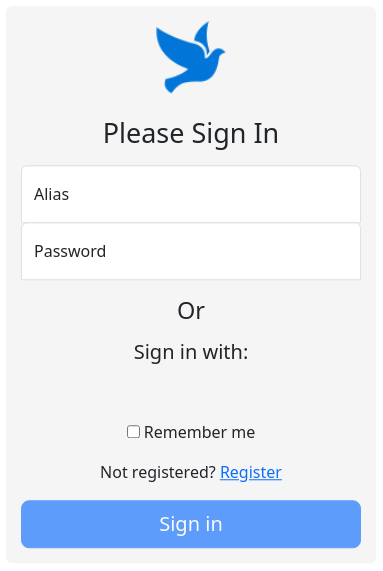
Test: Login Component › The sign-in button is enabled when both the alias and password fields have text.
The image size is (383, 571).
Type "@bob" into the field labelled "Alias" at (191, 195), box [21,166,361,224]
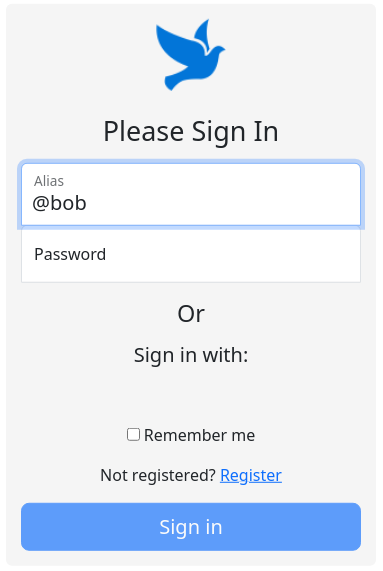
Type "pw" into the password field labelled "Password" at (191, 254), box [21,225,361,283]
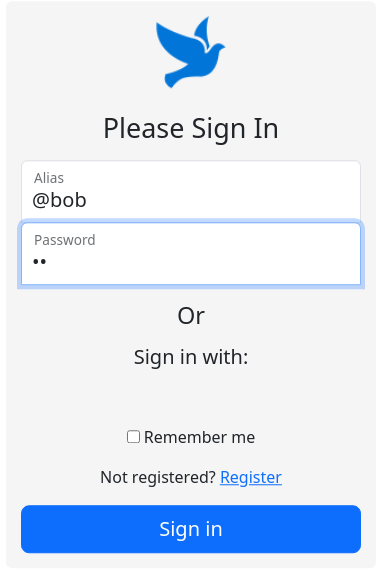
Check: the button "Sign in" is enabled, box [21,506,361,554]
